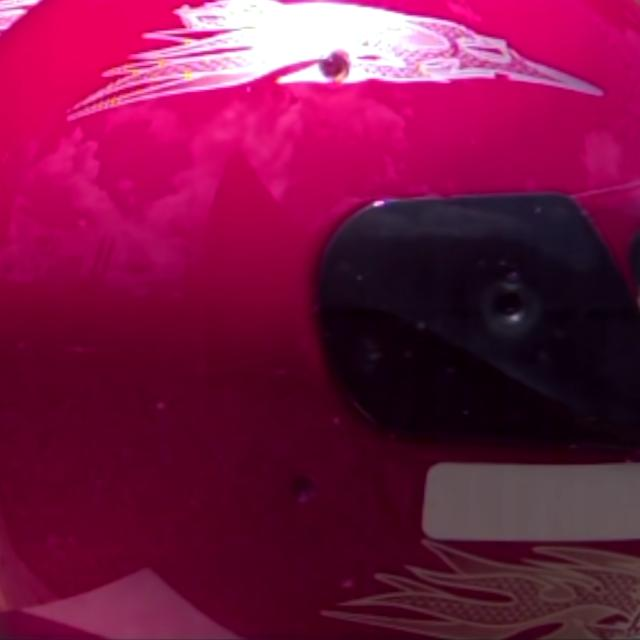bullets: (486, 284, 536, 330), (284, 466, 320, 509), (317, 48, 350, 88)
